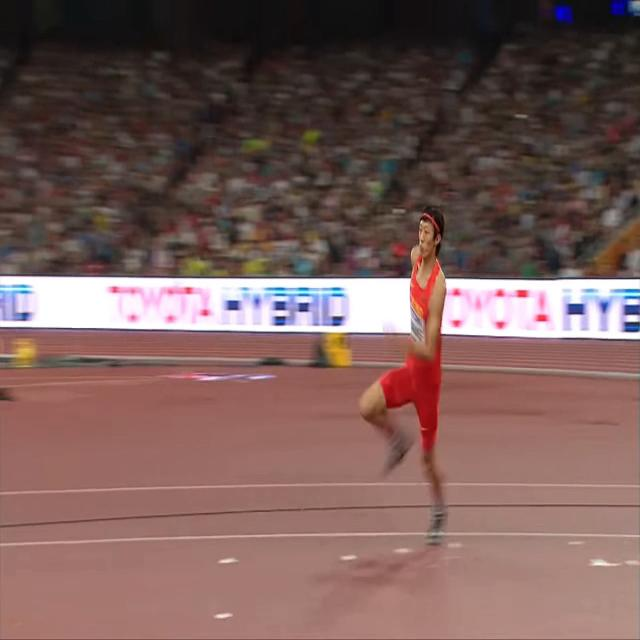run: (357, 206, 447, 542)
